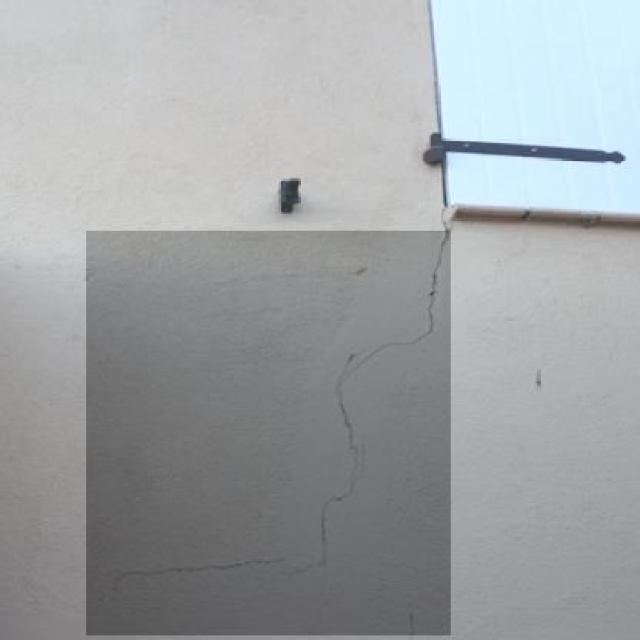Crack: (286, 320, 404, 538), (85, 500, 283, 595), (408, 240, 452, 347)
